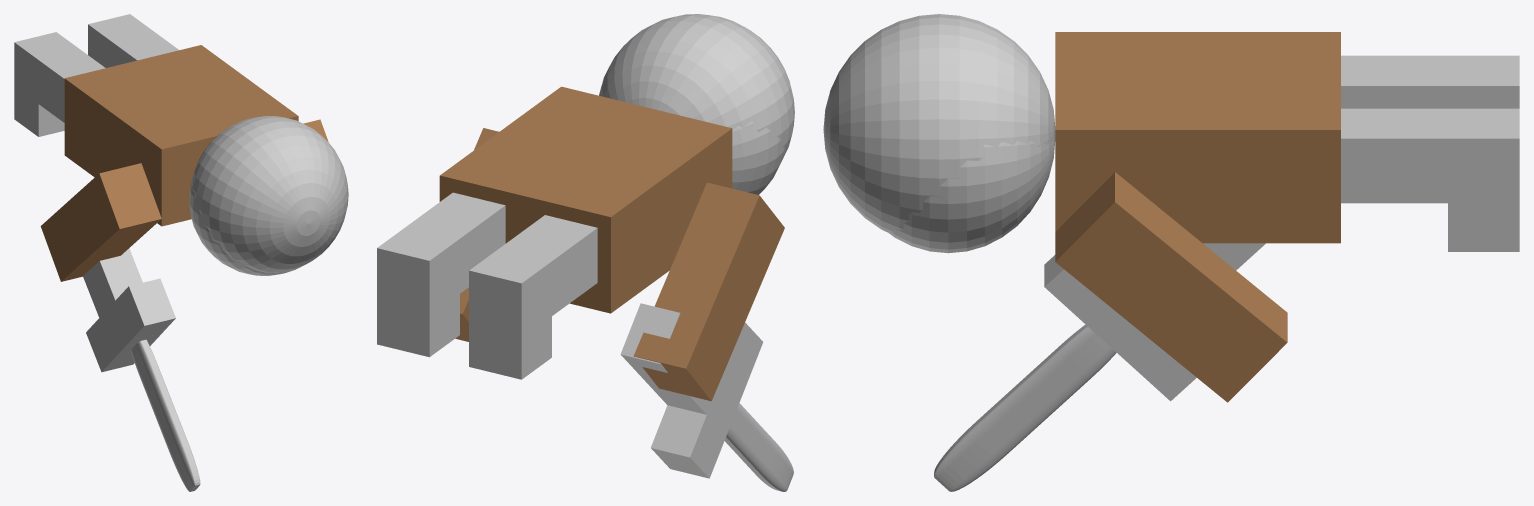
Rendered from swordsman.obj.
3 renders of one model, left to right at view 1: azimuth 30°, elevation 25°; view 2: azimuth 150°, elevation 25°; view 3: azimuth 270°, elevation 25°, orthographic. The views are drawn at different scales.
Parts seen in each view (by area): view 1: group_0_11107152, group_0_12756581, group_0_12568524, group_0_6306067, group_0_16766131; view 2: group_0_11107152, group_0_6306067, group_0_12756581, group_0_12568524, group_0_16766131; view 3: group_0_11107152, group_0_12756581, group_0_6306067, group_0_12568524, group_0_16766131.
Part boxes in pixels (x1,y1,x2,y2): group_0_11107152: (40,45,328,281); group_0_12756581: (191,116,348,272); group_0_12568524: (83,248,200,491); group_0_6306067: (14,14,178,136); group_0_16766131: (189,176,297,275); group_0_11107152: (439,86,784,401); group_0_6306067: (377,198,589,379); group_0_12756581: (600,14,794,157); group_0_12568524: (446,192,793,491); group_0_16766131: (599,85,784,194); group_0_11107152: (1055,32,1340,402); group_0_12756581: (823,14,1055,233); group_0_6306067: (1359,55,1519,251); group_0_12568524: (934,55,1358,491); group_0_16766131: (889,134,1055,253).
Bounding box in the file's own units: 21 × 32.06 × 39.
